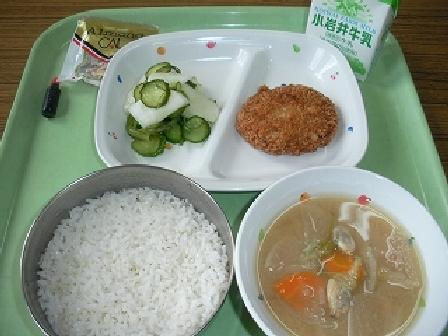Milk: (296, 0, 397, 71)
Rice: (40, 165, 232, 334)
Soups: (242, 173, 440, 335)
cutlet: (226, 76, 343, 160)
salad fresh: (124, 60, 218, 152)
